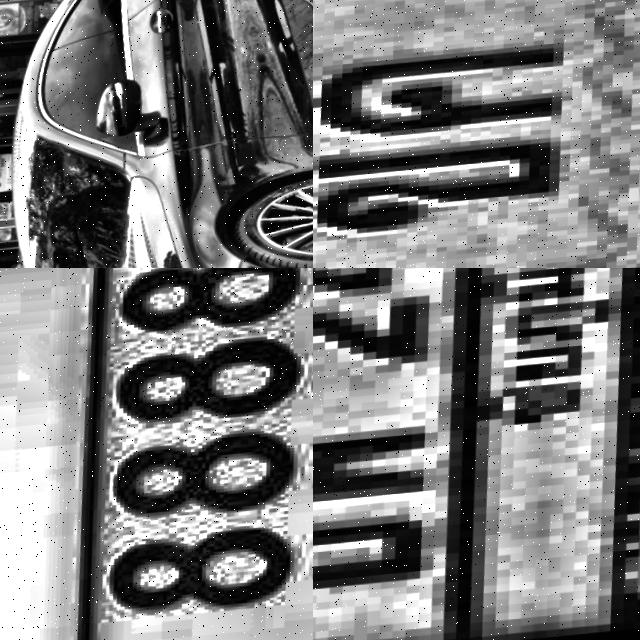license-plate: (313, 268, 640, 640), (6, 268, 313, 640), (313, 0, 640, 268)
